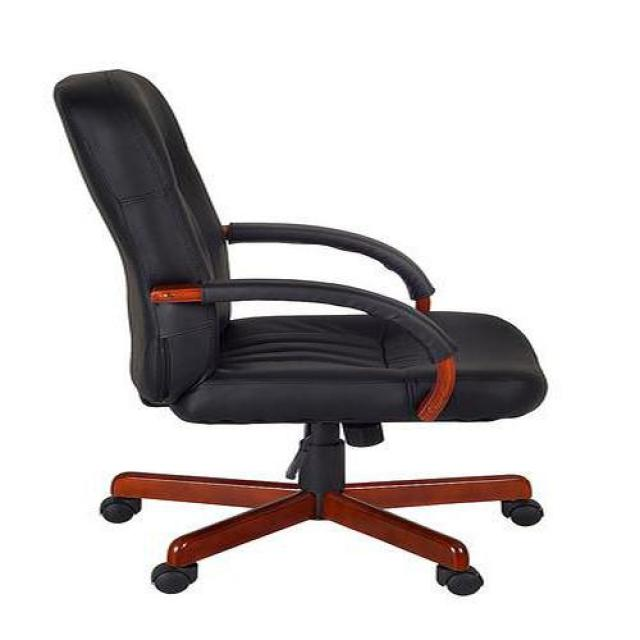table: (52, 69, 549, 600)
